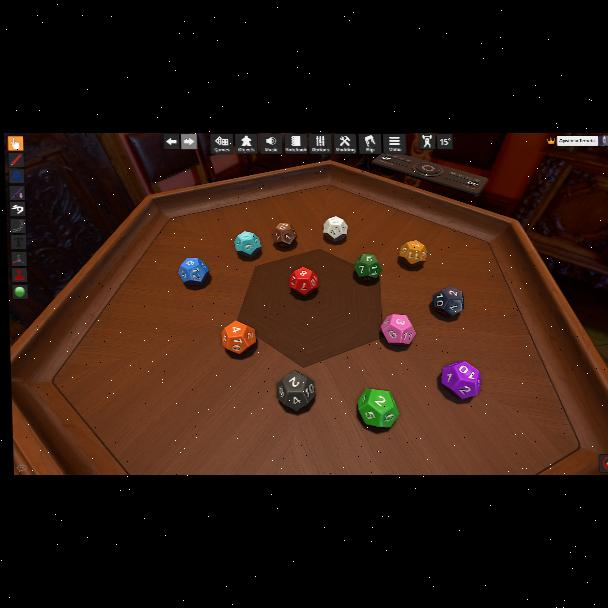d12: (356, 388, 398, 427), (276, 371, 316, 410), (440, 361, 481, 399), (221, 321, 255, 355), (380, 314, 412, 344), (430, 286, 460, 318), (288, 267, 318, 297), (179, 258, 209, 286), (235, 231, 262, 257), (354, 253, 380, 280), (399, 241, 424, 266), (273, 222, 297, 248), (322, 216, 347, 240)
